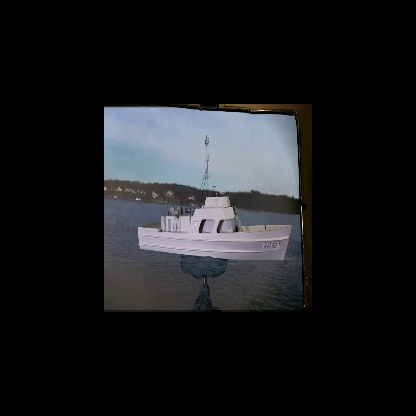YP689: (139, 135, 292, 263)
